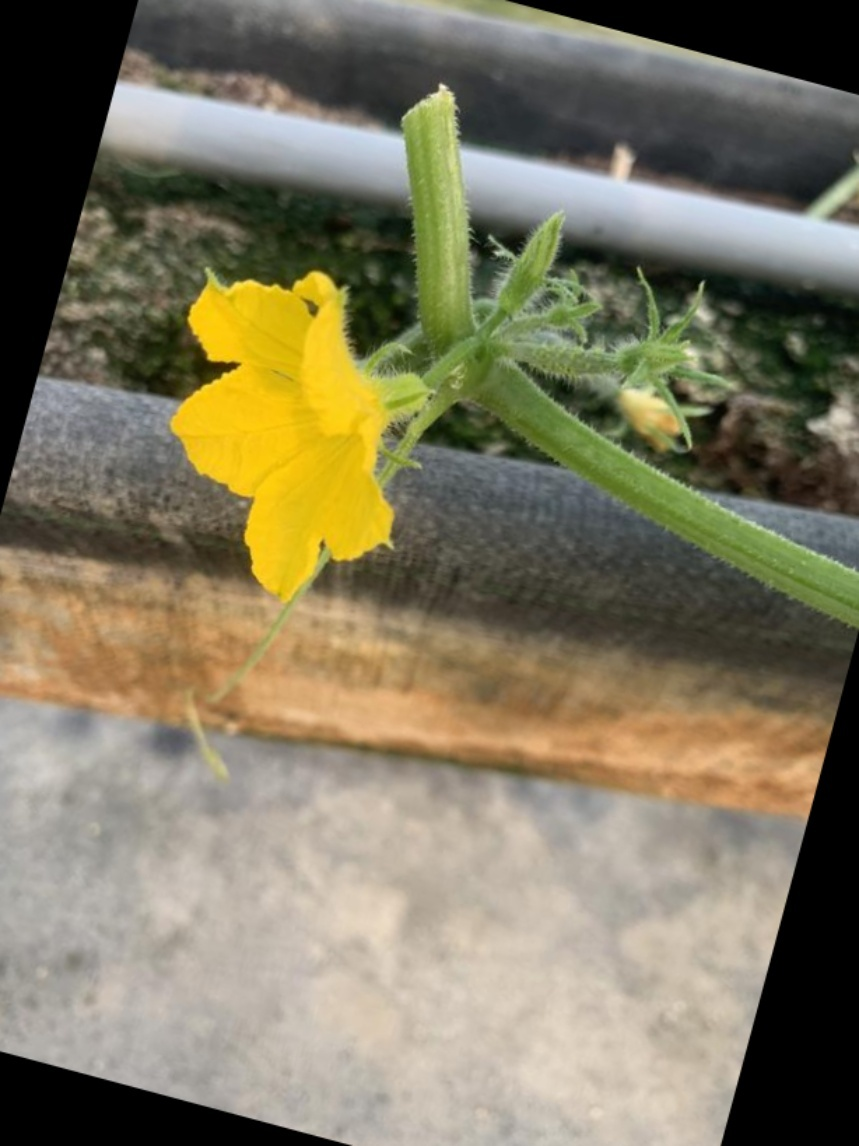mature: (157, 267, 448, 613)
